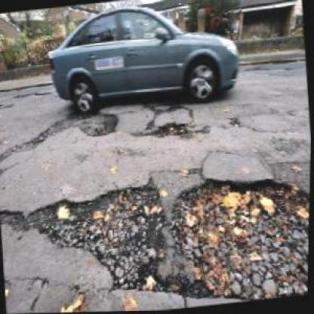Hueco: (78, 110, 121, 140), (148, 119, 191, 140)
